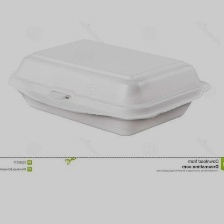foam_box: (5, 31, 215, 139)
